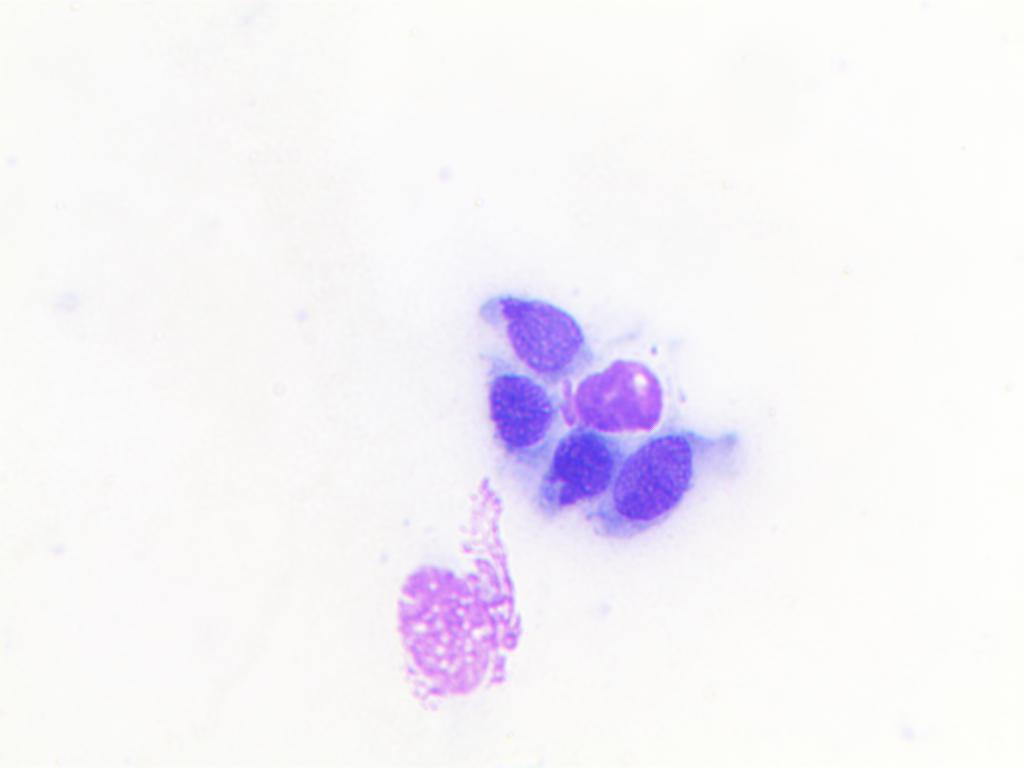artifact: (373, 483, 529, 708)
epithelial: (566, 344, 675, 438), (607, 430, 699, 535), (485, 282, 586, 369), (542, 422, 613, 524), (486, 370, 555, 452)
